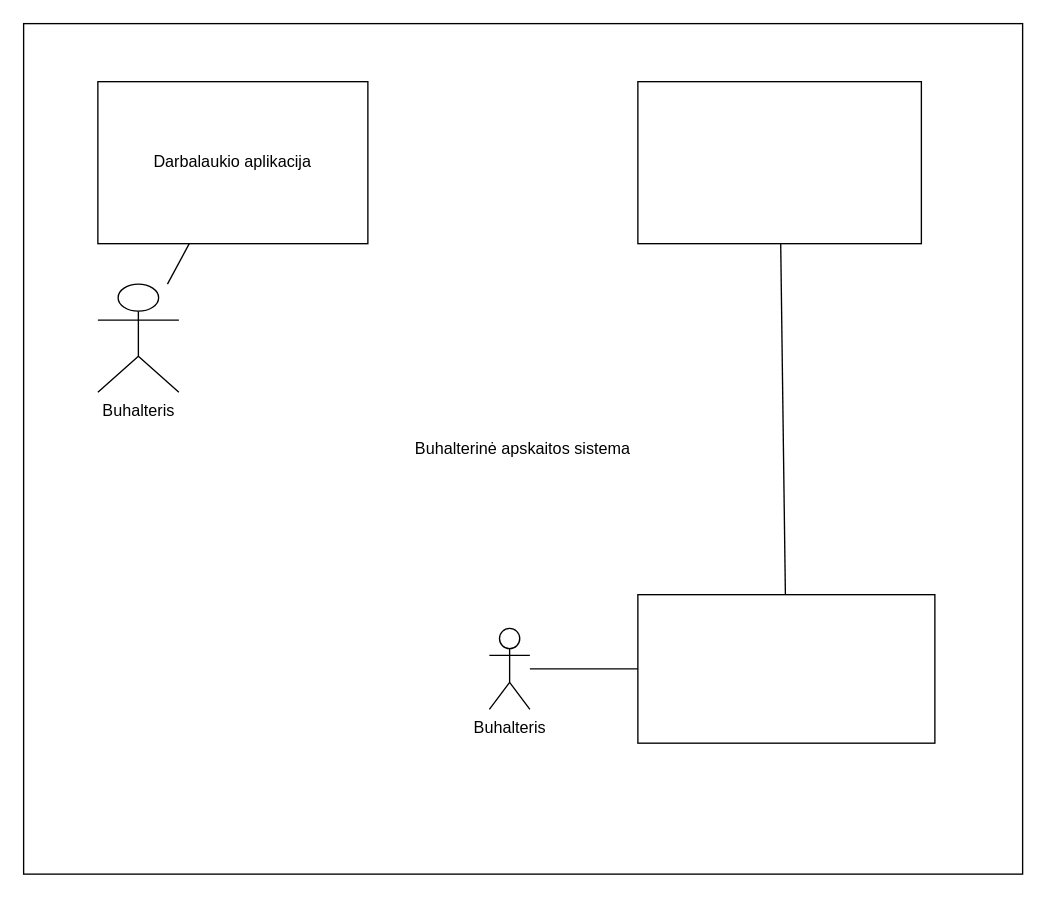
This 1046x898 diagram has some shape labels left out. The shapes that lost their labels are listed below. From the top down, each one's centre as x and y in pixels, then its label:
At (x=779, y=162): "Internetinis serveris".
At (x=786, y=668): "Mobiliojo telefono aplikacija".
